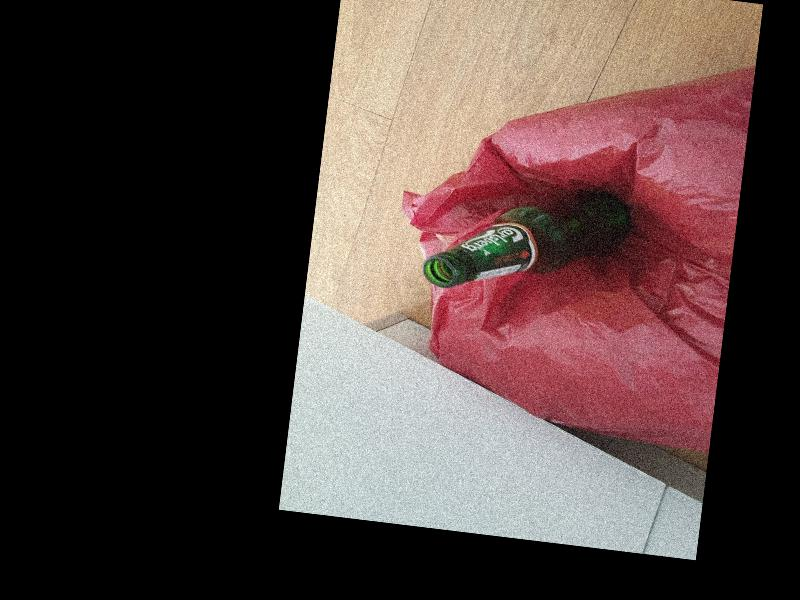Beer: (420, 170, 631, 307)
